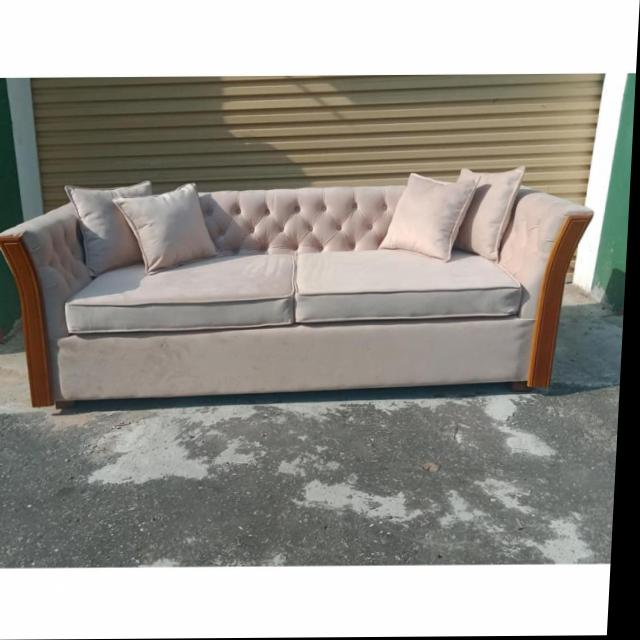Sofa: (0, 169, 598, 411)
